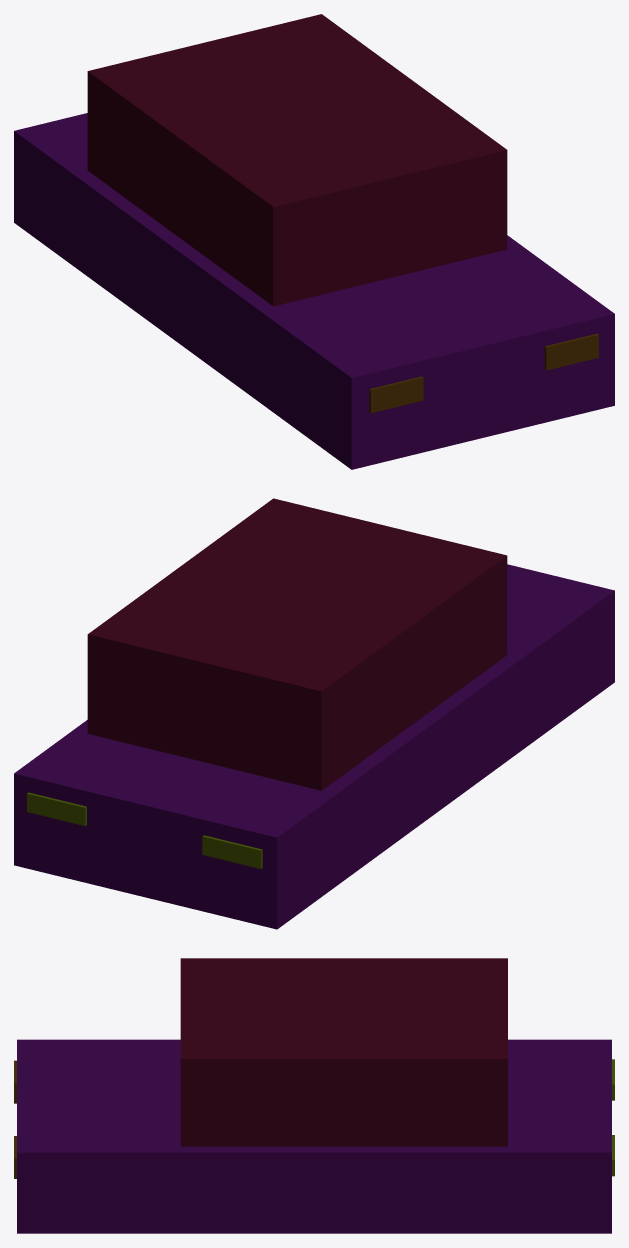
Rendered from car_b.glb.
3 renders of one model, top to bottom at view 1: azimuth 30°, elevation 25°; view 2: azimuth 150°, elevation 25°; view 3: azimuth 270°, elevation 25°, orthographic. The views are drawn at different scales.
Parts seen in each view (by area): view 1: car_b; view 2: car_b; view 3: car_b.
Boxes of the visible parts, bbox=[...] form: car_b: bbox=[14, 14, 614, 469]; car_b: bbox=[14, 498, 614, 929]; car_b: bbox=[14, 958, 614, 1233].
Size of the model in its own units: 1.8 by 1.25 by 4.04.
